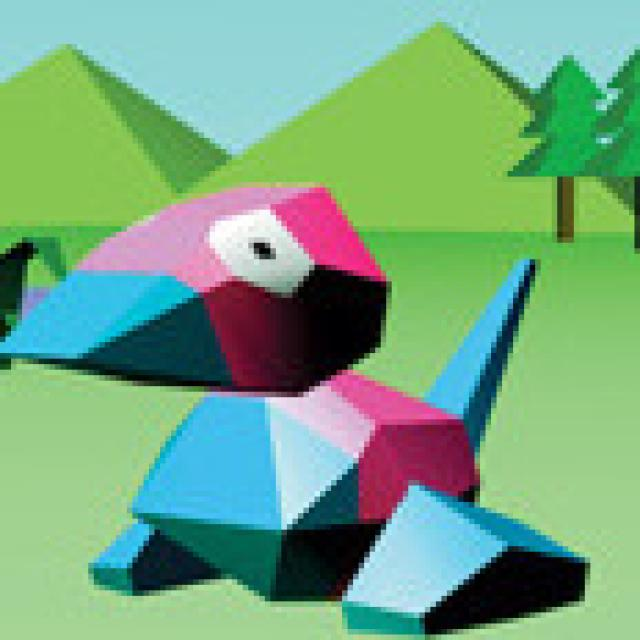Porygon: (86, 181, 482, 590)
